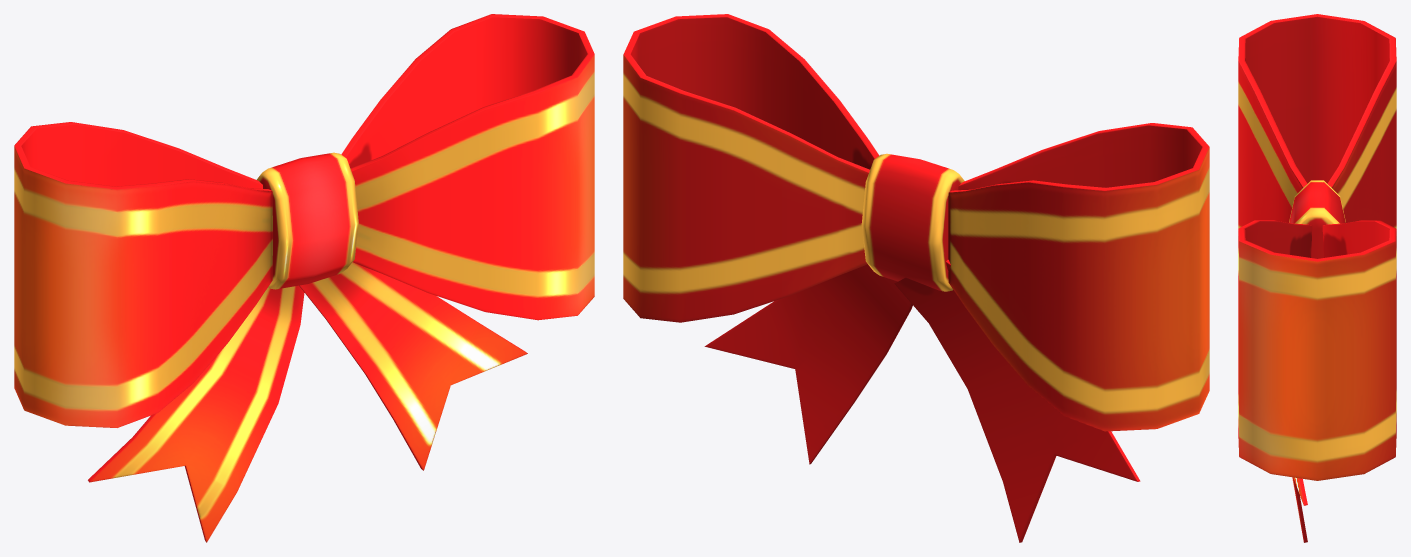
File: obj_toy02.gltf
3 views of the same model, side by side, from view 1: azimuth 30°, elevation 25°; view 2: azimuth 150°, elevation 25°; view 3: azimuth 270°, elevation 25° (orthographic). The views are drawn at different scales.
Parts seen in each view (by area): view 1: obj_toy02; view 2: obj_toy02; view 3: obj_toy02.
Boxes of the visible parts, x1=… form: obj_toy02: x1=14, y1=14, x2=594, y2=542; obj_toy02: x1=623, y1=14, x2=1209, y2=542; obj_toy02: x1=1238, y1=14, x2=1396, y2=542.
Bounding box in the file's own units: 0.5414 × 0.3837 × 0.1463.
Materials: 1 (1 with a texture image).
